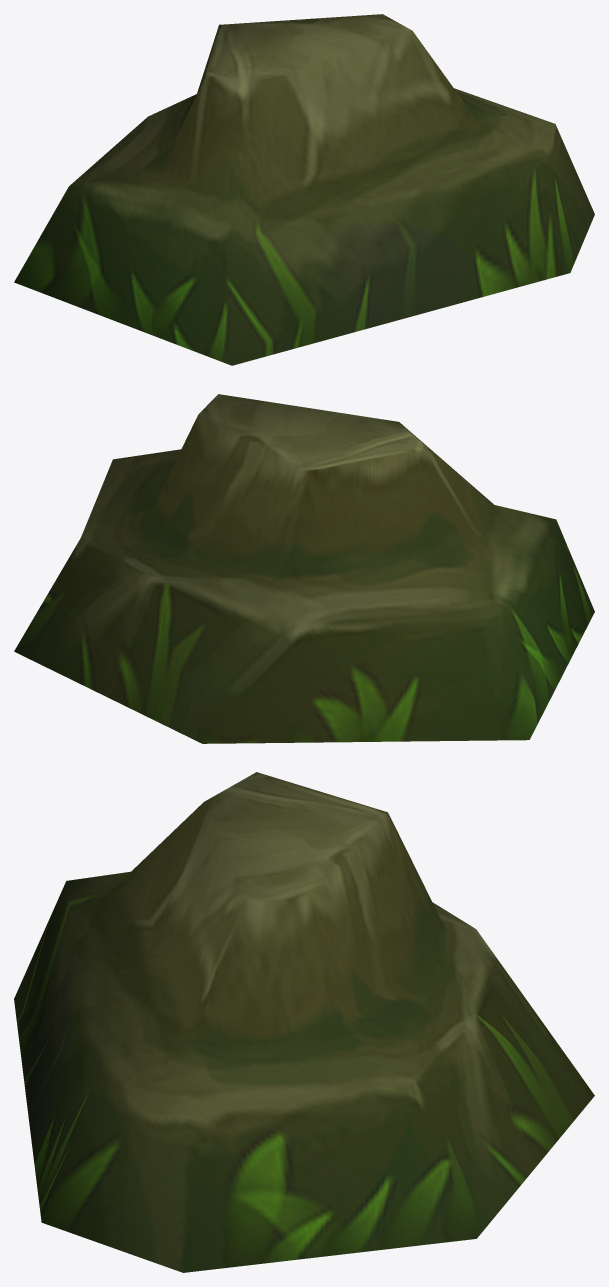
File: floor_rocks_04.fbx
The picture shows the model from 3 angles, top to bottom: view 1: azimuth 30°, elevation 25°; view 2: azimuth 150°, elevation 25°; view 3: azimuth 270°, elevation 25°; orthographic projection. The views are drawn at different scales.
Visible parts, largest first — view 1: floor_rocks_04; view 2: floor_rocks_04; view 3: floor_rocks_04.
Part boxes in pixels (bbox=[...]): floor_rocks_04: bbox=[14, 14, 594, 365]; floor_rocks_04: bbox=[14, 394, 594, 743]; floor_rocks_04: bbox=[14, 772, 594, 1272].
Bounding box in the file's own units: 77.32 × 30 × 58.6.
